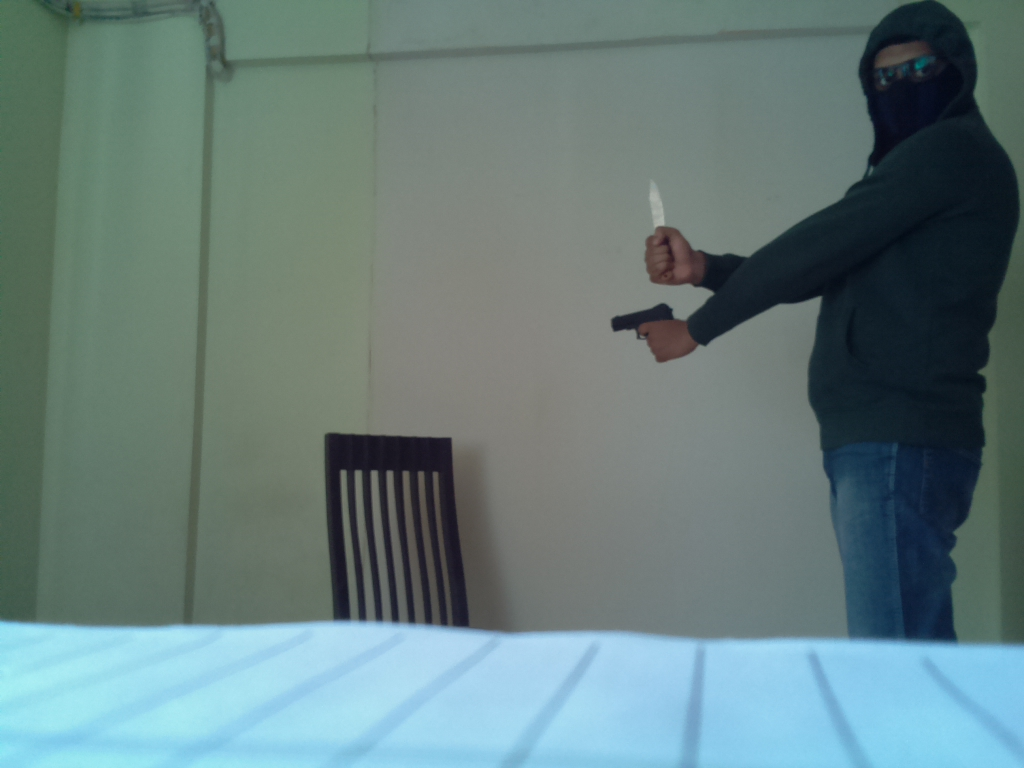gun: (636, 176, 674, 276), (604, 299, 678, 349)
